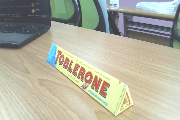Chocolate: (41, 40, 140, 118)
